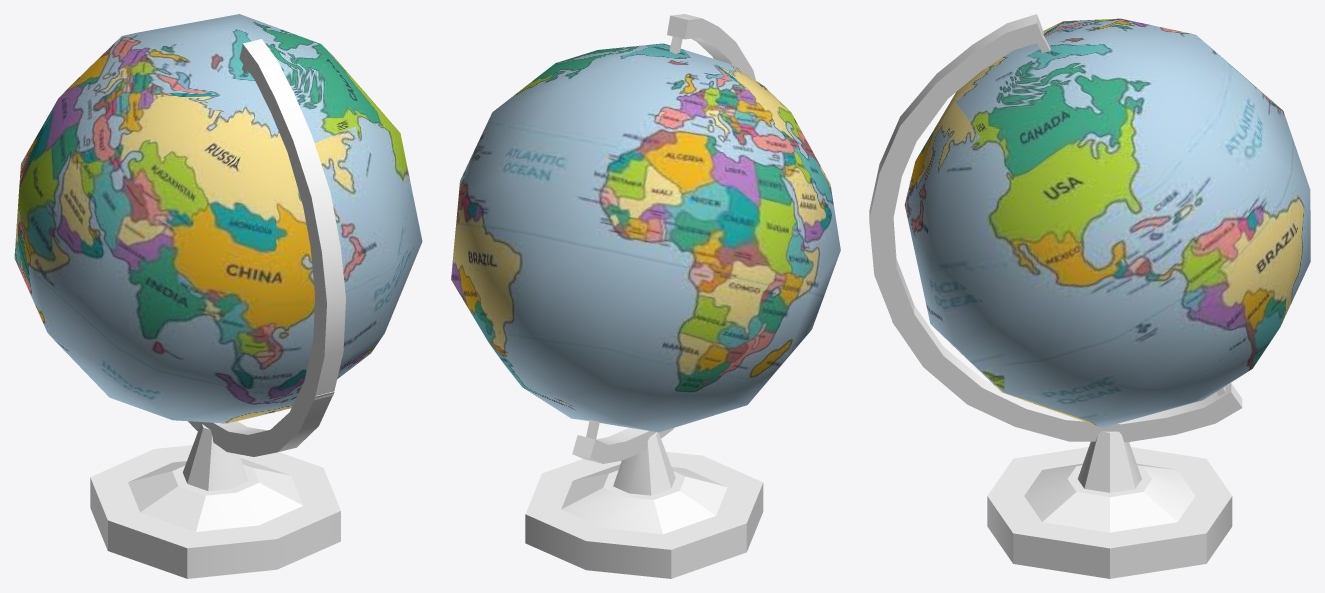
File: globoterraqueo.fbx
3 renders of one model, left to right at view 1: azimuth 30°, elevation 25°; view 2: azimuth 150°, elevation 25°; view 3: azimuth 270°, elevation 25°, orthographic. The views are drawn at different scales.
Parts seen in each view (by area): view 1: Sphere, Cube, Cube.001; view 2: Sphere, Cube, Cube.001; view 3: Sphere, Cube, Cube.001.
Part boxes in pixels (<box>): Sphere: <box>14,14,422,423</box>; Cube: <box>90,424,340,578</box>; Cube.001: <box>188,39,345,456</box>; Sphere: <box>451,43,840,432</box>; Cube: <box>525,432,763,578</box>; Cube.001: <box>572,14,755,463</box>; Sphere: <box>904,18,1310,427</box>; Cube: <box>987,431,1232,578</box>; Cube.001: <box>869,14,1242,442</box>.
Bounding box in the file's own units: 31.68 × 43.59 × 34.35.
Materials: 2 (1 with a texture image).
